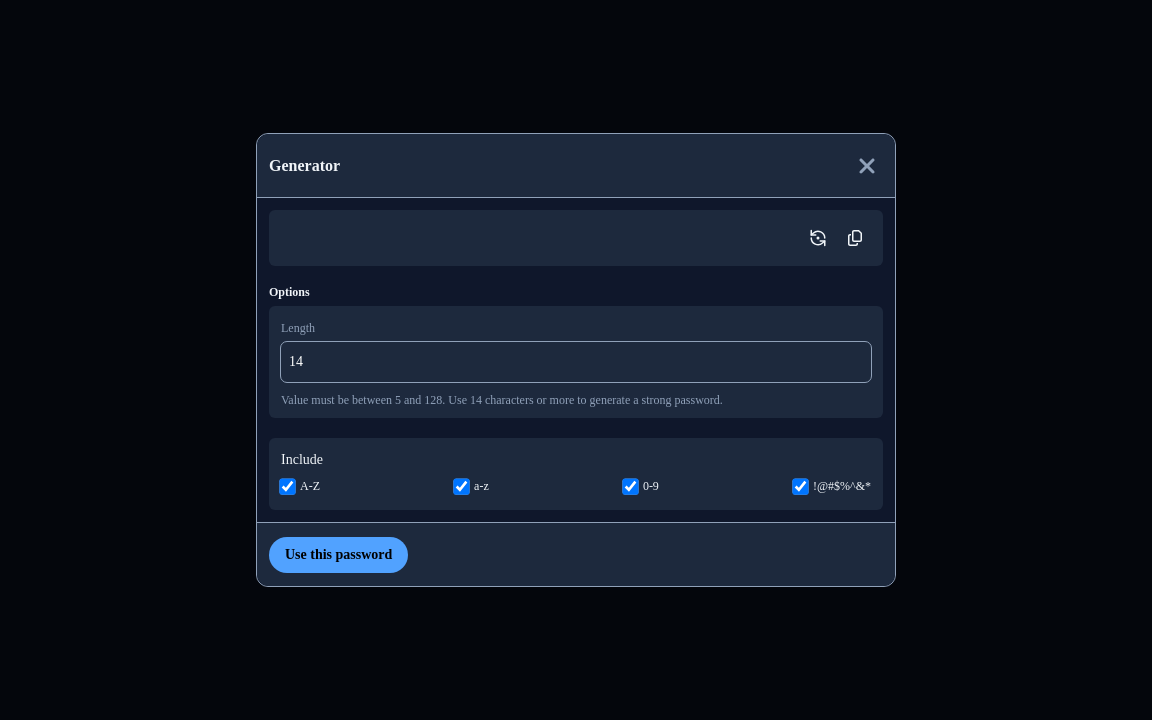
PasswordGenerator › Sets length to 128 if input is greater than 128 on blur
The width and height of the screenshot is (1152, 720).
Replace the text in the number field with test id "password-length-input" with "300" at (576,362), box [281,342,871,382]
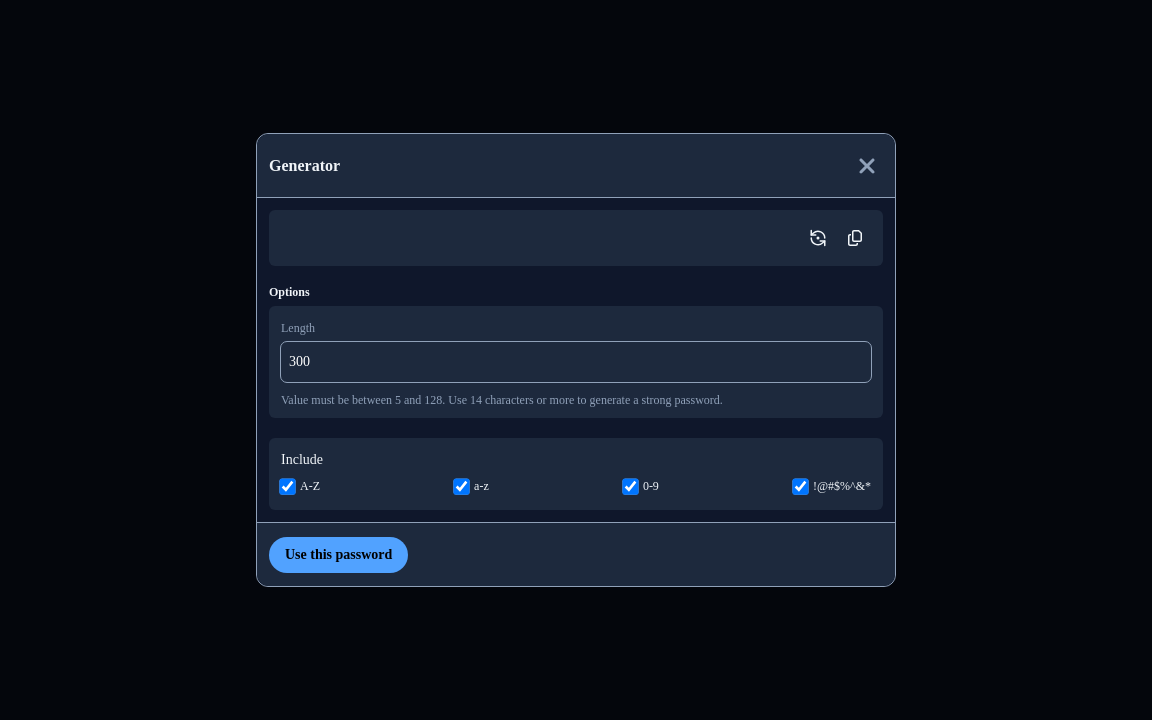
Leave the number field with test id "password-length-input", box [281,342,871,382]
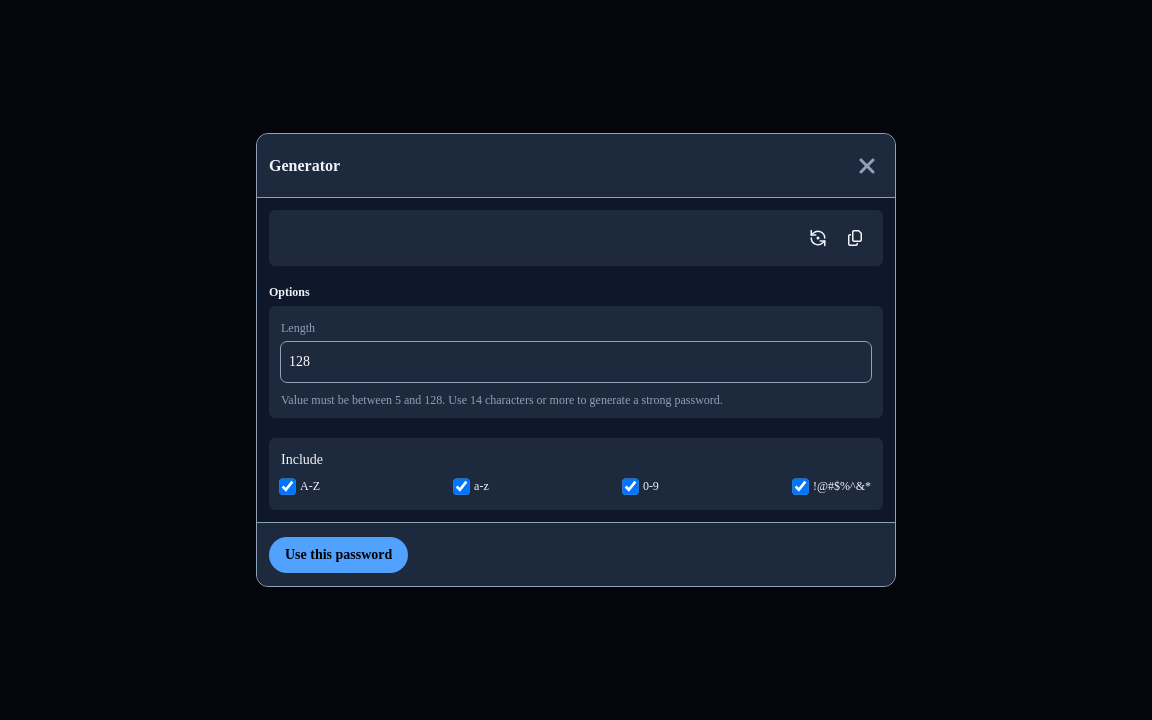
expect the number field with test id "password-length-input" holds "128": met, box [281,342,871,382]
